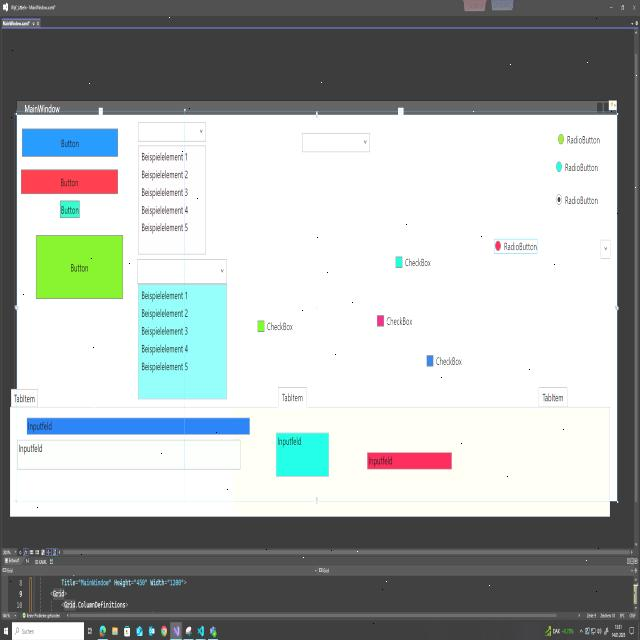button: (34, 232, 124, 302), (21, 126, 119, 160), (20, 166, 120, 198), (59, 198, 81, 220)
checkbox: (395, 255, 403, 270), (257, 319, 265, 333), (376, 314, 384, 328), (426, 354, 434, 368)
dropdownMenu: (136, 257, 228, 402), (137, 120, 207, 255), (301, 130, 371, 154), (599, 237, 612, 261)
input: (15, 438, 242, 472), (25, 414, 251, 436), (276, 430, 330, 480), (366, 450, 452, 471)
label: (503, 240, 538, 252), (564, 194, 599, 206), (567, 134, 601, 145), (565, 162, 599, 173), (267, 320, 294, 332), (386, 315, 413, 327), (405, 257, 431, 269), (436, 356, 462, 366)
menuItem: (141, 359, 189, 374), (141, 150, 189, 164), (141, 168, 189, 182), (141, 204, 189, 218), (141, 324, 189, 338), (141, 289, 190, 302), (141, 342, 190, 355), (141, 221, 188, 234), (141, 186, 189, 198), (142, 308, 190, 319)
radio: (557, 132, 565, 146), (555, 159, 563, 173), (555, 192, 563, 206), (495, 238, 501, 252)
tabControl: (277, 384, 308, 411), (537, 384, 569, 409), (10, 386, 40, 410)
